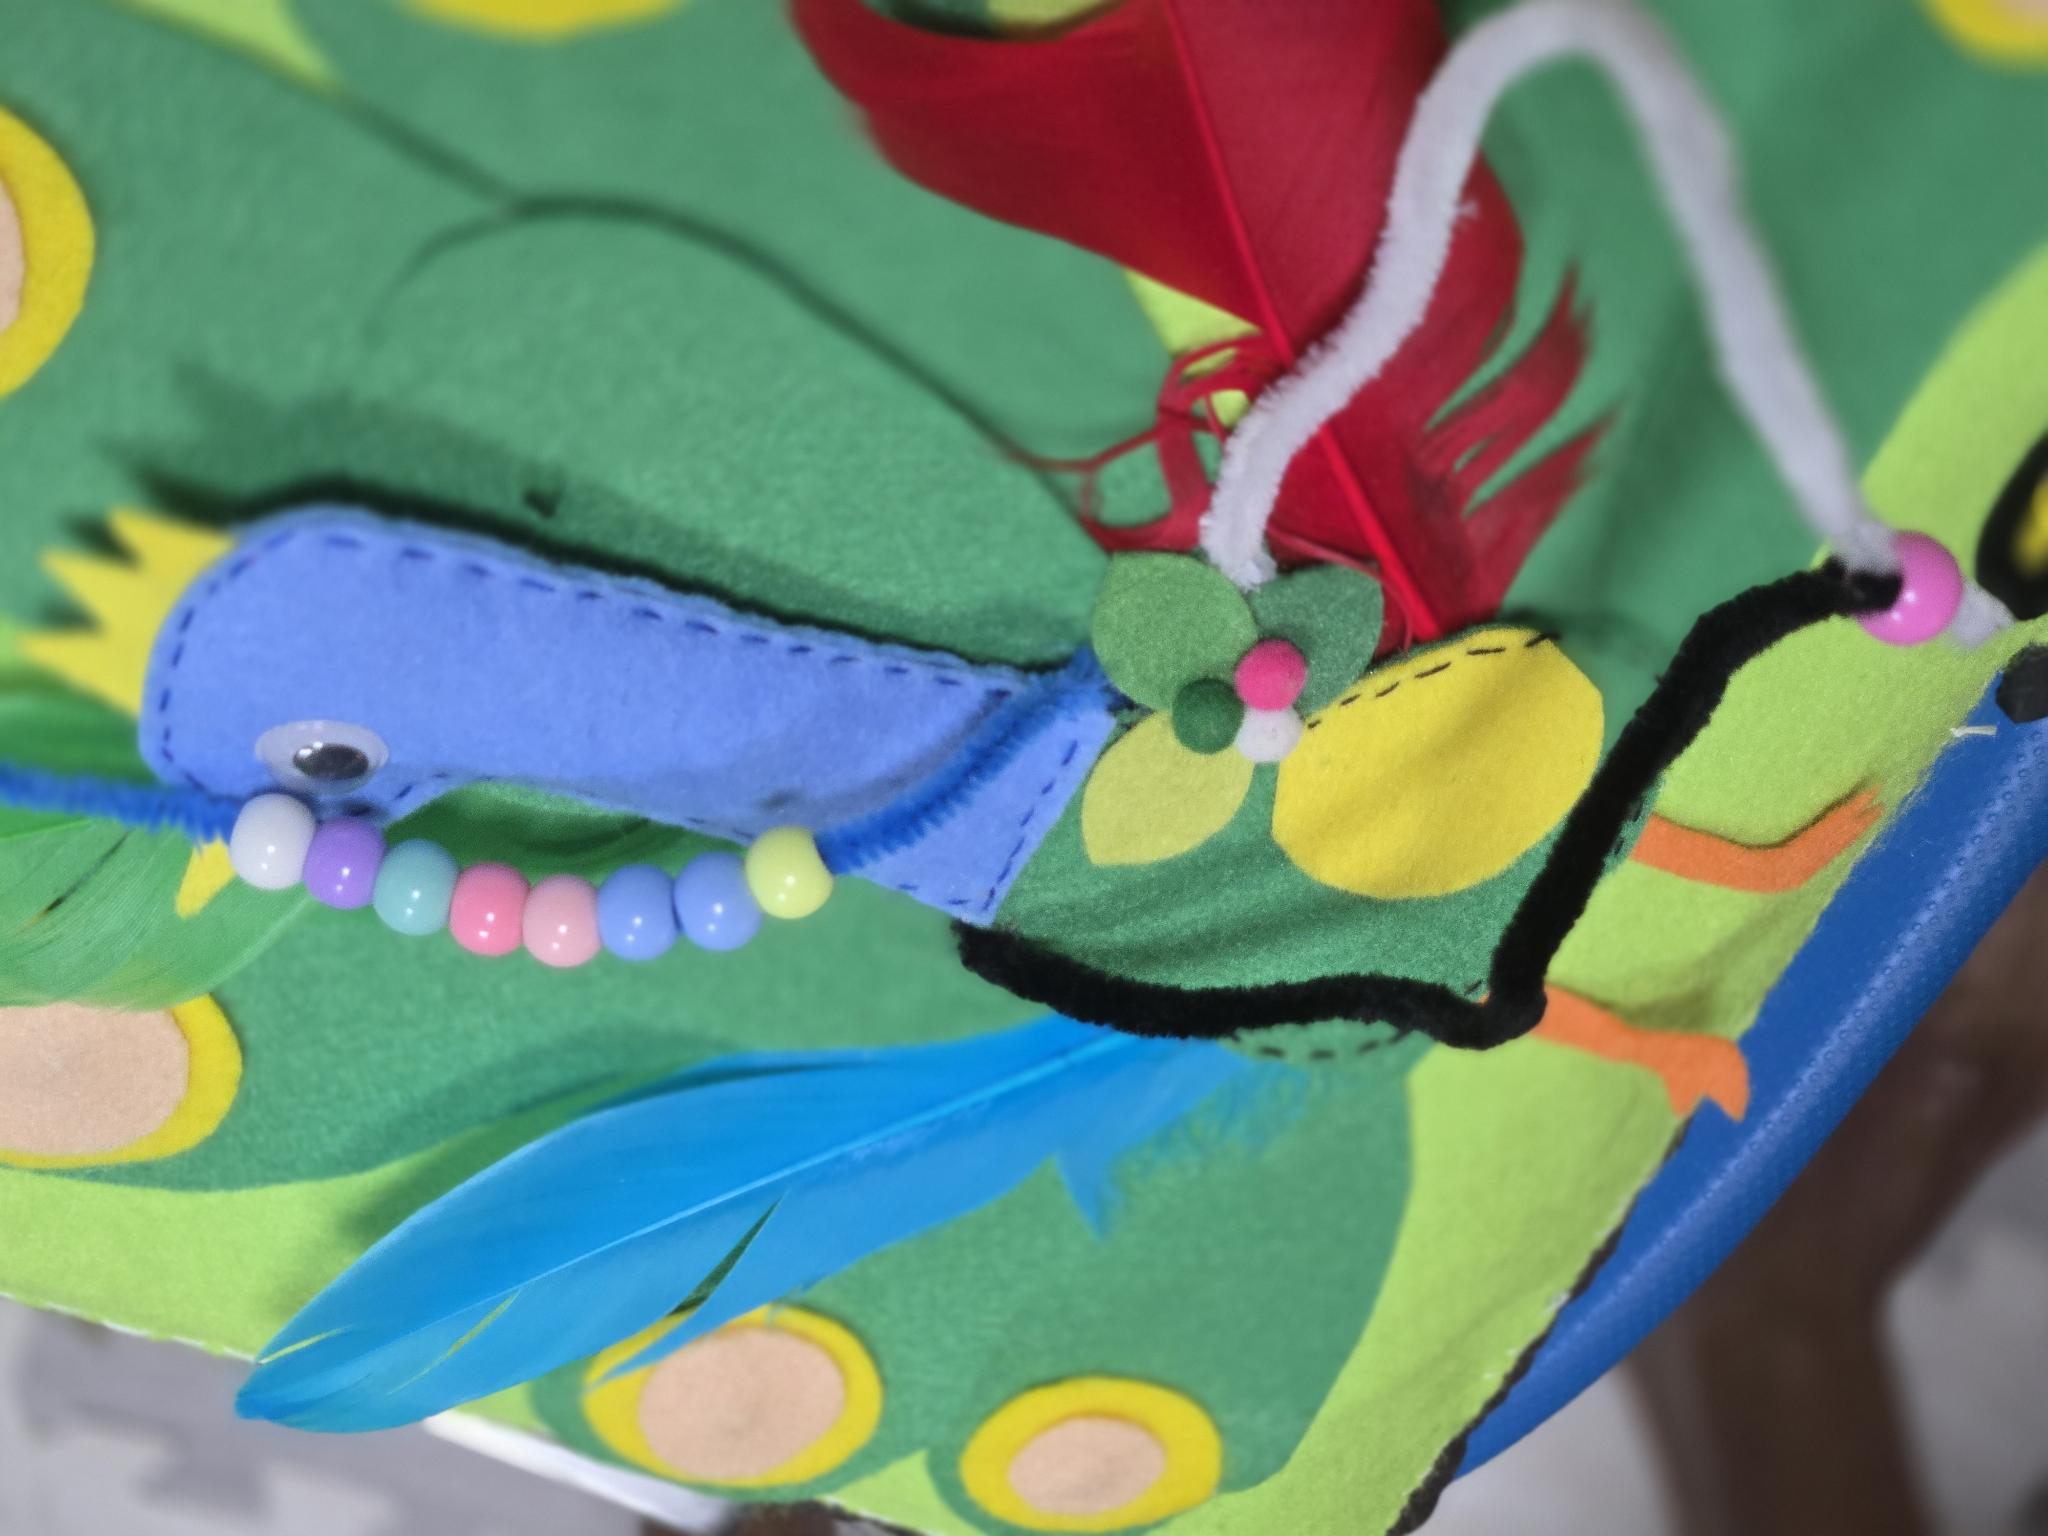bead: (1843, 516, 1967, 658), (221, 789, 310, 897), (745, 826, 837, 926), (439, 858, 522, 962), (302, 815, 374, 925), (376, 829, 448, 937), (589, 862, 671, 955), (672, 842, 743, 942), (518, 871, 590, 965)
